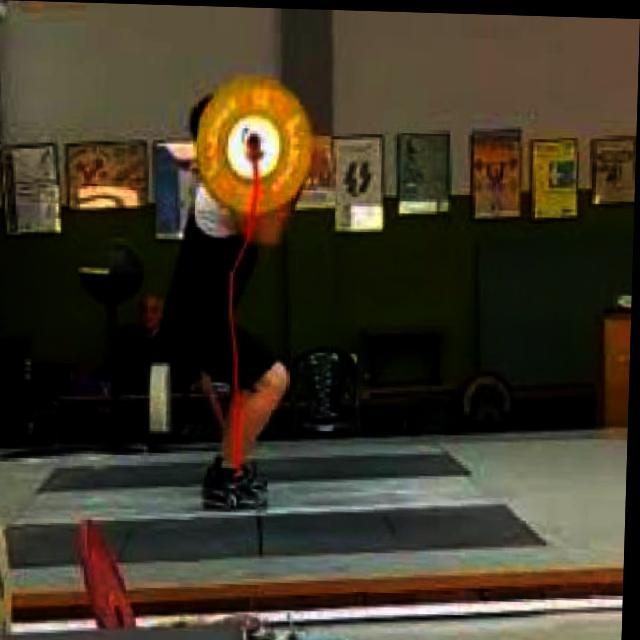barbell: (190, 67, 323, 224)
